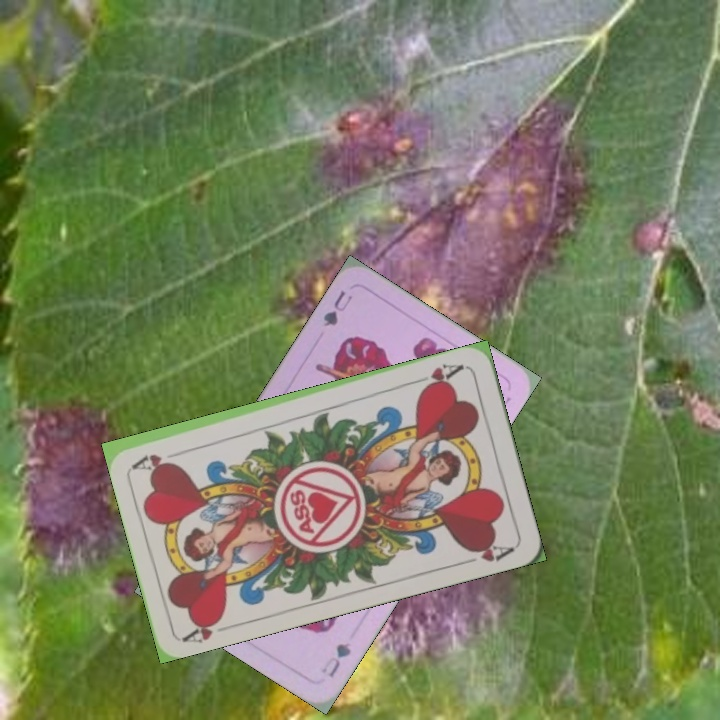GU: (319, 286, 355, 330), (317, 638, 354, 680)
HA: (410, 359, 467, 393), (179, 610, 226, 646)
